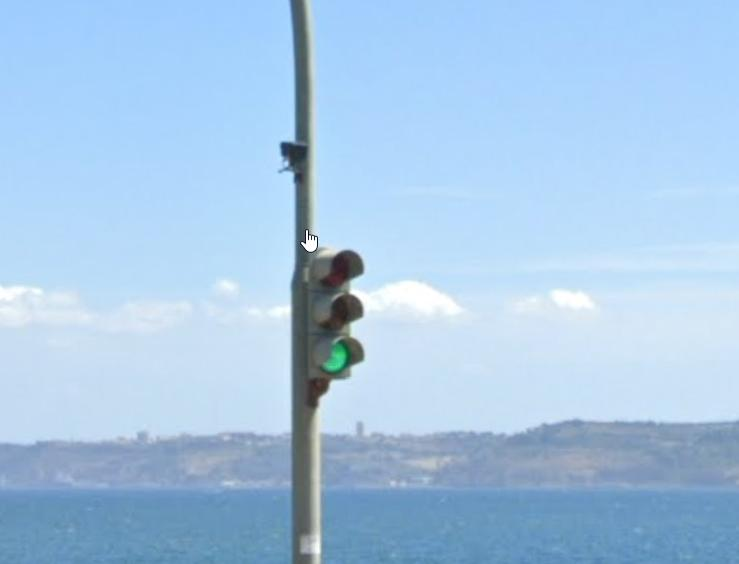green_light: (305, 248, 365, 381)
